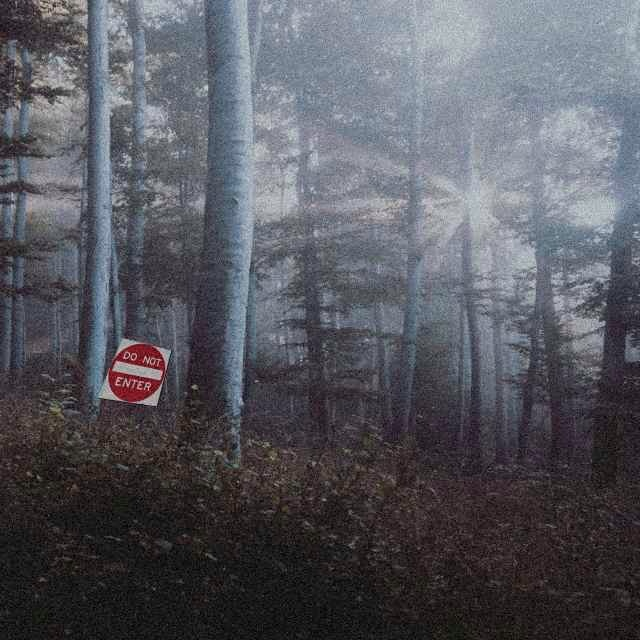DO_NOT_ENTER: (96, 337, 172, 407)
